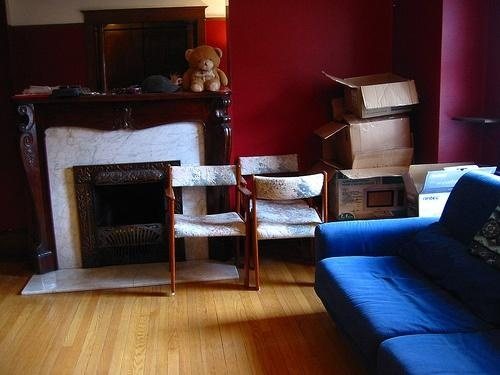chair: (165, 163, 251, 295), (249, 174, 330, 290), (235, 154, 301, 195)
sofa: (315, 172, 500, 375)
